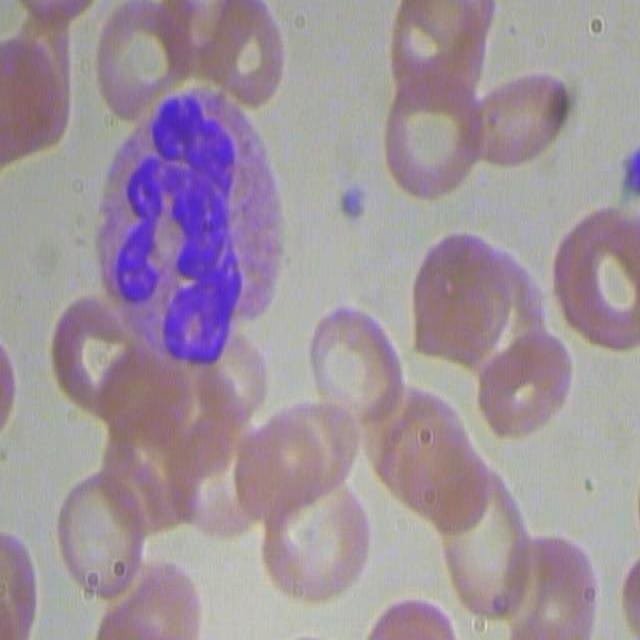RBC: (100, 352, 258, 551), (404, 225, 542, 375), (373, 384, 486, 530), (534, 203, 638, 358), (254, 474, 368, 604), (379, 69, 482, 206), (440, 466, 527, 620), (304, 302, 401, 438), (0, 1, 77, 170), (455, 70, 571, 181), (58, 470, 151, 605), (177, 0, 286, 114), (87, 0, 190, 120), (476, 322, 574, 438), (387, 0, 497, 95), (502, 530, 599, 637), (49, 289, 130, 415), (360, 600, 472, 640), (0, 524, 38, 638)
WBC: (94, 88, 249, 384)
platelets: (334, 181, 370, 228)
